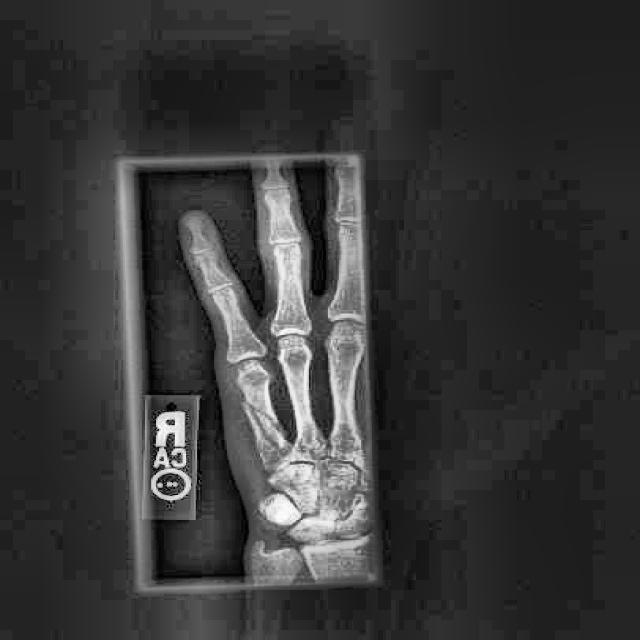fingers positive: (224, 383, 301, 464)
